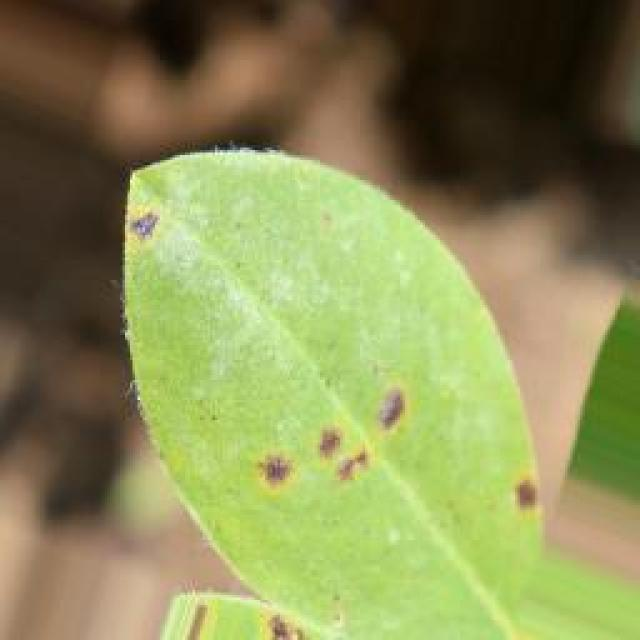Sigatoka: (240, 390, 406, 498), (110, 185, 186, 261), (483, 468, 558, 542), (263, 562, 305, 640)
